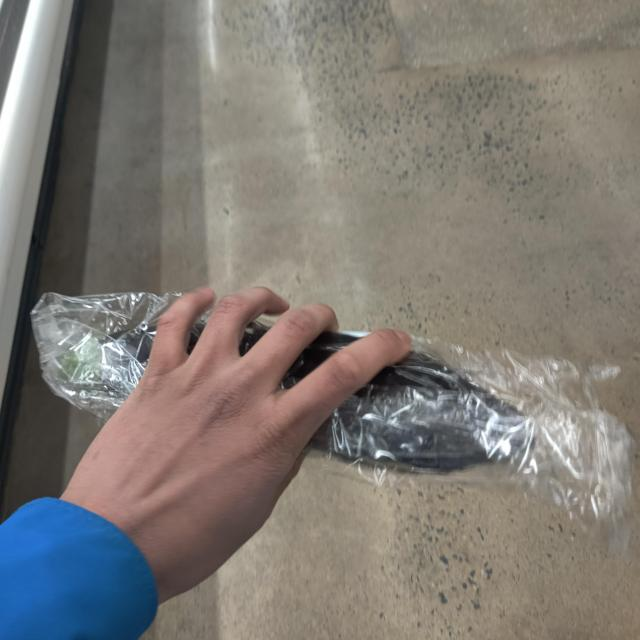Eggplant: (20, 288, 582, 491)
